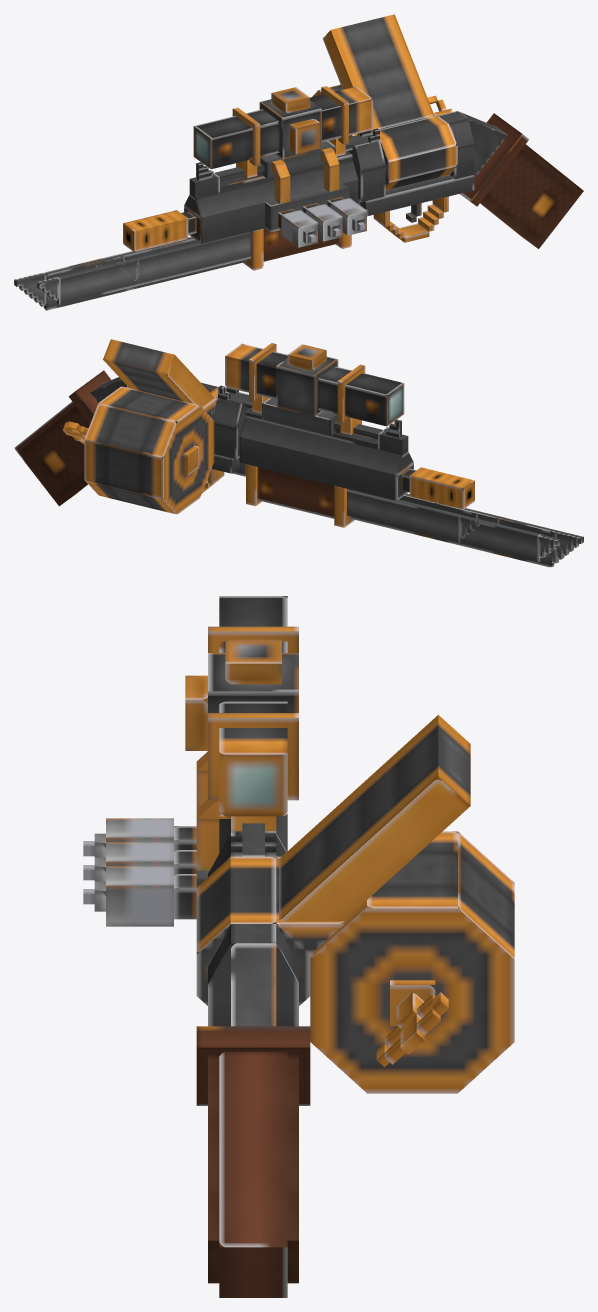
The model's file is revolver.obj.
The picture shows the model from 3 angles, top to bottom: view 1: azimuth 30°, elevation 25°; view 2: azimuth 150°, elevation 25°; view 3: azimuth 270°, elevation 25°; orthographic projection. The views are drawn at different scales.
Visible parts, largest first — view 1: revolver_frame, barrel, dev_scope, dev_bayonet, player_mag, player_electro, player_bayonet, cosmetic_compensator, bayonet_attachment, dev_mag; view 2: dev_mag, barrel, dev_scope, revolver_frame, dev_bayonet, player_bayonet, player_mag, bayonet_attachment, cosmetic_compensator, player_electro; view 3: dev_mag, revolver_frame, dev_scope, player_mag, player_electro, barrel.
Boxes of the visible parts, <box> form: revolver_frame: <box>360,111,583,248</box>; barrel: <box>184,115,457,243</box>; dev_scope: <box>193,86,372,178</box>; dev_bayonet: <box>14,232,250,310</box>; player_mag: <box>322,14,433,130</box>; player_electro: <box>260,141,366,247</box>; player_bayonet: <box>94,232,250,290</box>; cosmetic_compensator: <box>123,210,196,251</box>; bayonet_attachment: <box>243,228,351,270</box>; dev_mag: <box>312,84,452,136</box>; dev_mag: <box>63,386,217,514</box>; barrel: <box>175,382,413,500</box>; dev_scope: <box>225,343,404,435</box>; revolver_frame: <box>14,370,237,506</box>; dev_bayonet: <box>347,489,583,567</box>; player_bayonet: <box>347,489,504,547</box>; player_mag: <box>103,339,214,406</box>; bayonet_attachment: <box>246,464,354,527</box>; cosmetic_compensator: <box>401,467,474,509</box>; player_electro: <box>262,398,337,435</box>; dev_mag: <box>276,831,514,1093</box>; revolver_frame: <box>196,924,310,1297</box>; dev_scope: <box>185,596,298,831</box>; player_mag: <box>279,715,470,924</box>; player_electro: <box>83,751,230,926</box>; barrel: <box>196,814,310,1005</box>.
Size of the model in its own units: 7.17 by 2.65 by 2.39.
